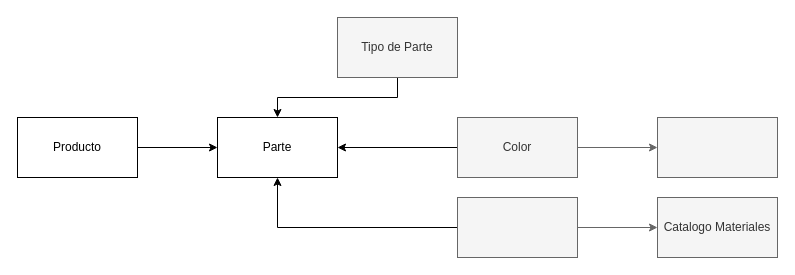
The diagram is 795 pixels wide and 275 high, and some of its shapes have lost their labels. The centre of each missing label's shape, as x and y in pixels:
"Catalogo de Color" belongs at point 717,147.
"Material" belongs at point 517,227.
